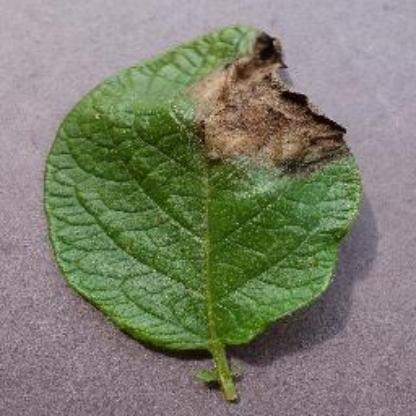Late-Blight: (26, 16, 392, 396)
